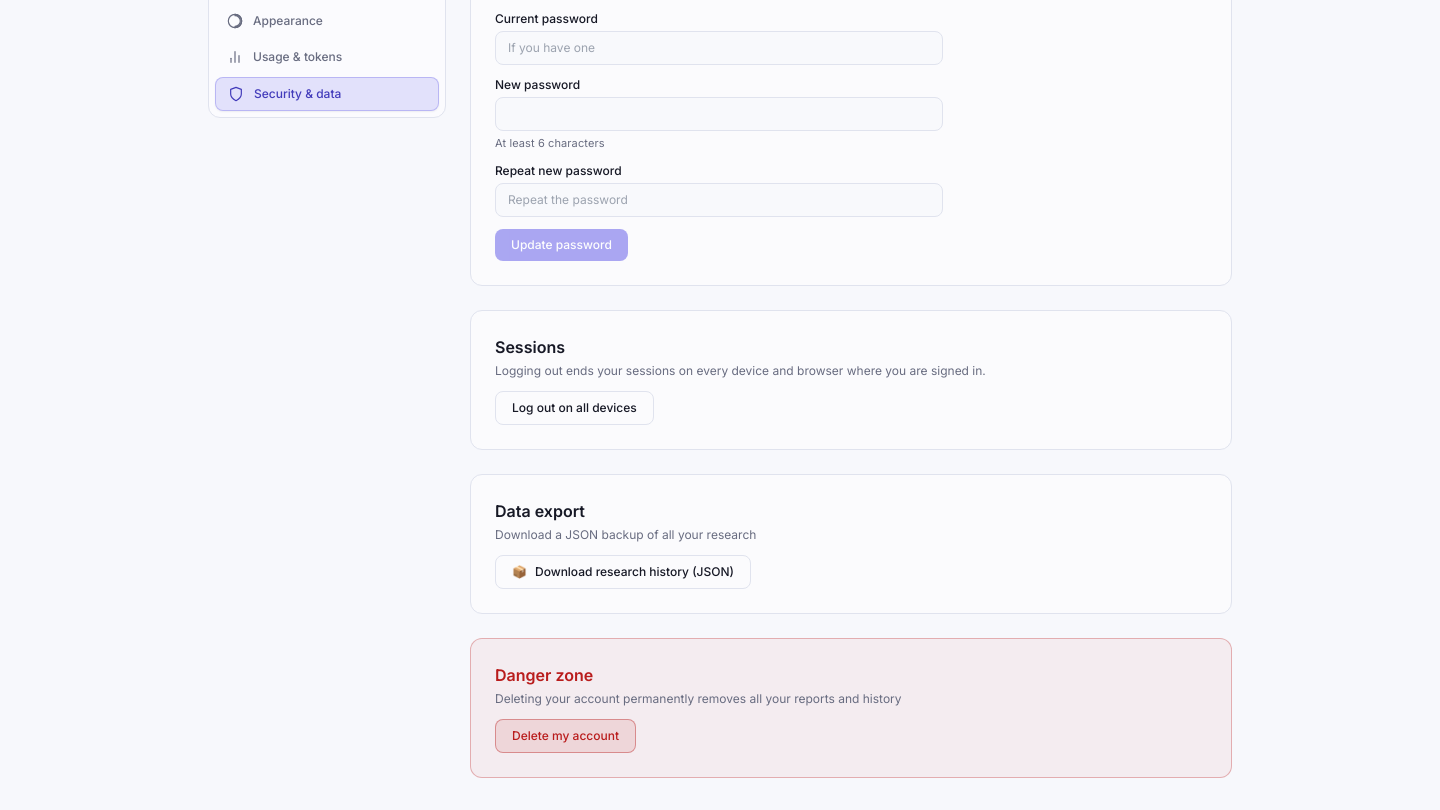
SettingsView › keeps the password and generic errors of a deletion without a Google sign-in offer
The width and height of the screenshot is (1440, 810).
(page scrolled)
Click the button "Delete my account" at (566, 736), box top-left (495, 719), bottom-right (636, 753)
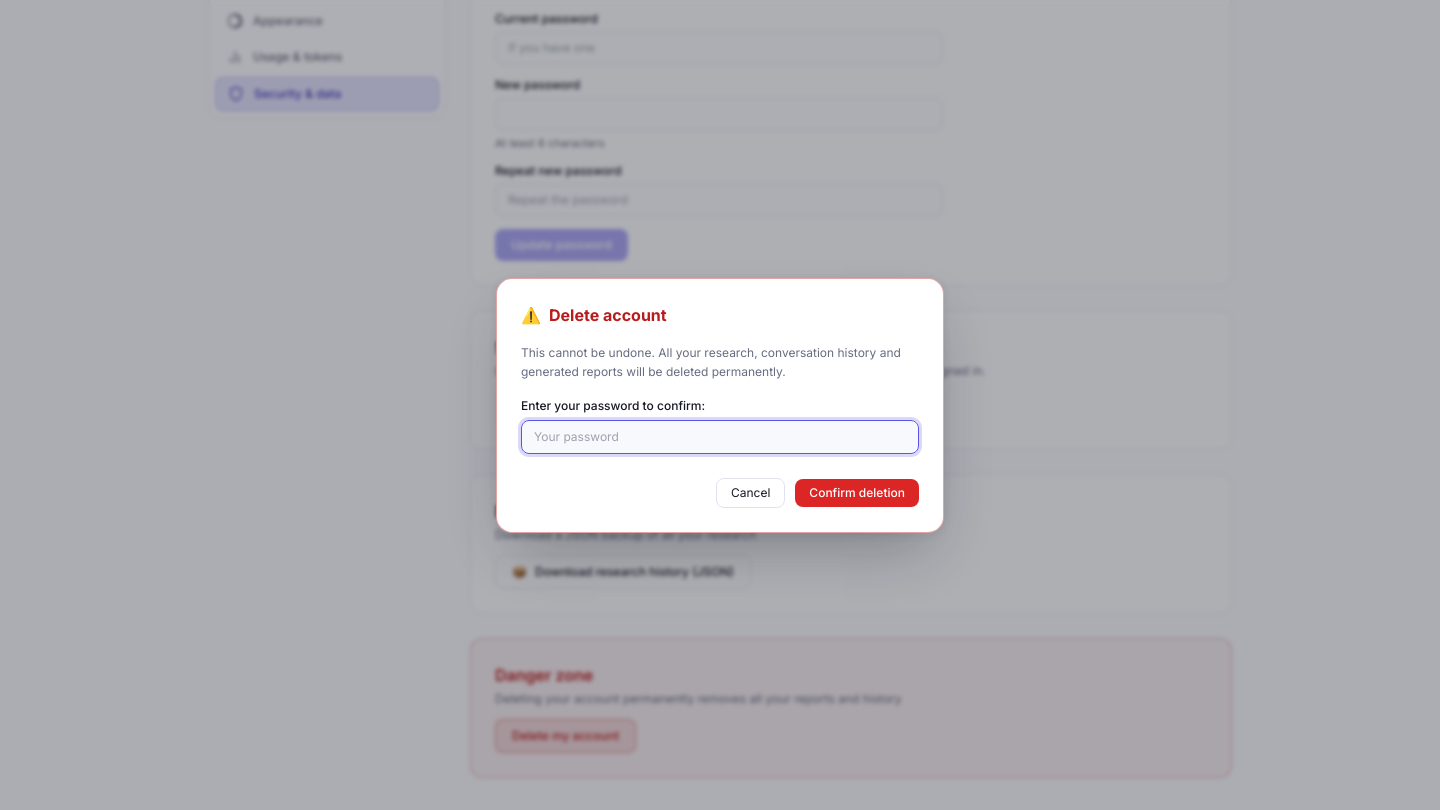
Type "wrong-password" into the password field labelled "Enter your password to confirm:" at (720, 436), box top-left (521, 420), bottom-right (919, 454)
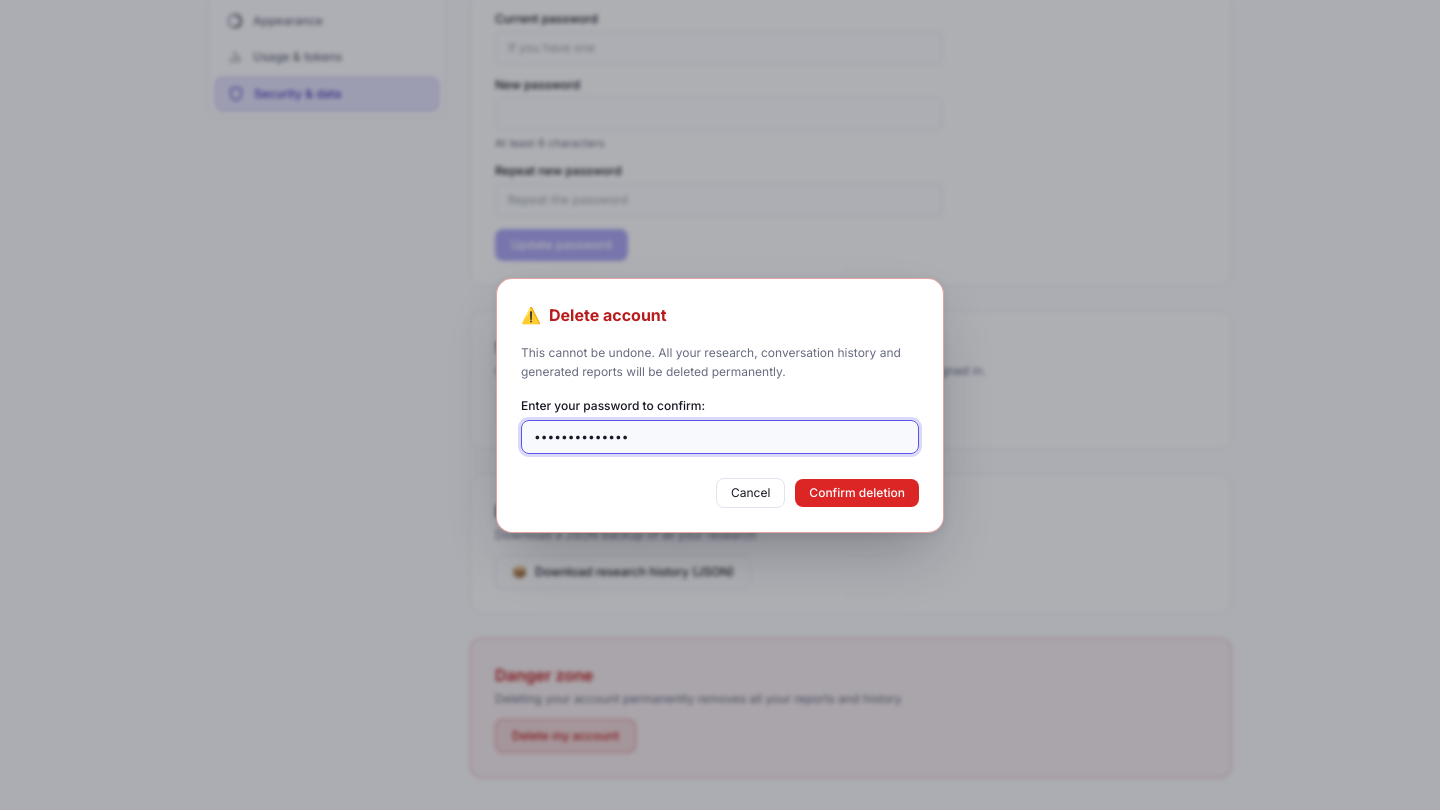
Click the button "Confirm deletion" at (857, 492), box top-left (795, 478), bottom-right (919, 506)
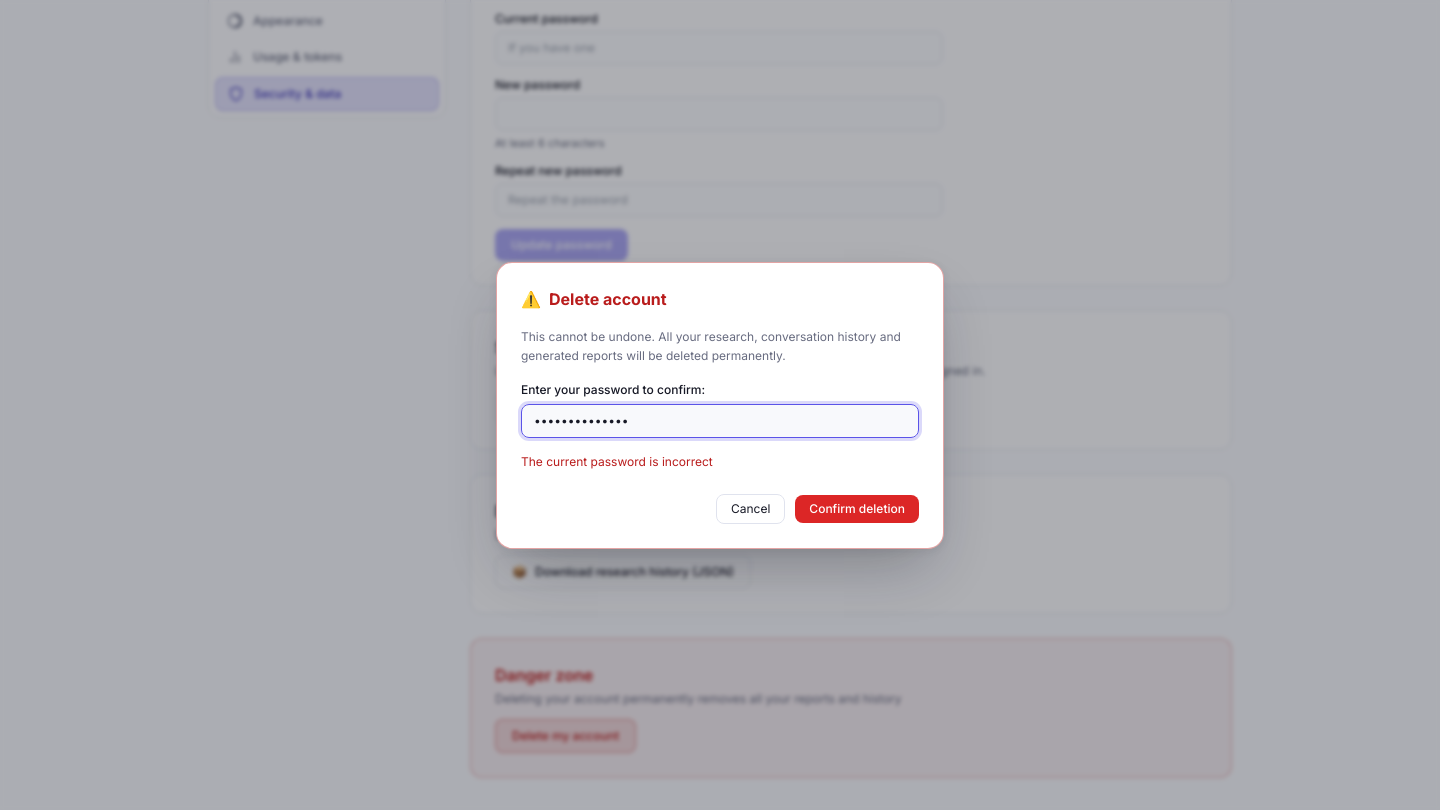
Check: the text "The current password is incorrect" is shown, box top-left (521, 454), bottom-right (713, 468)
Click the button "Confirm deletion" at (857, 508), box top-left (795, 494), bottom-right (919, 522)
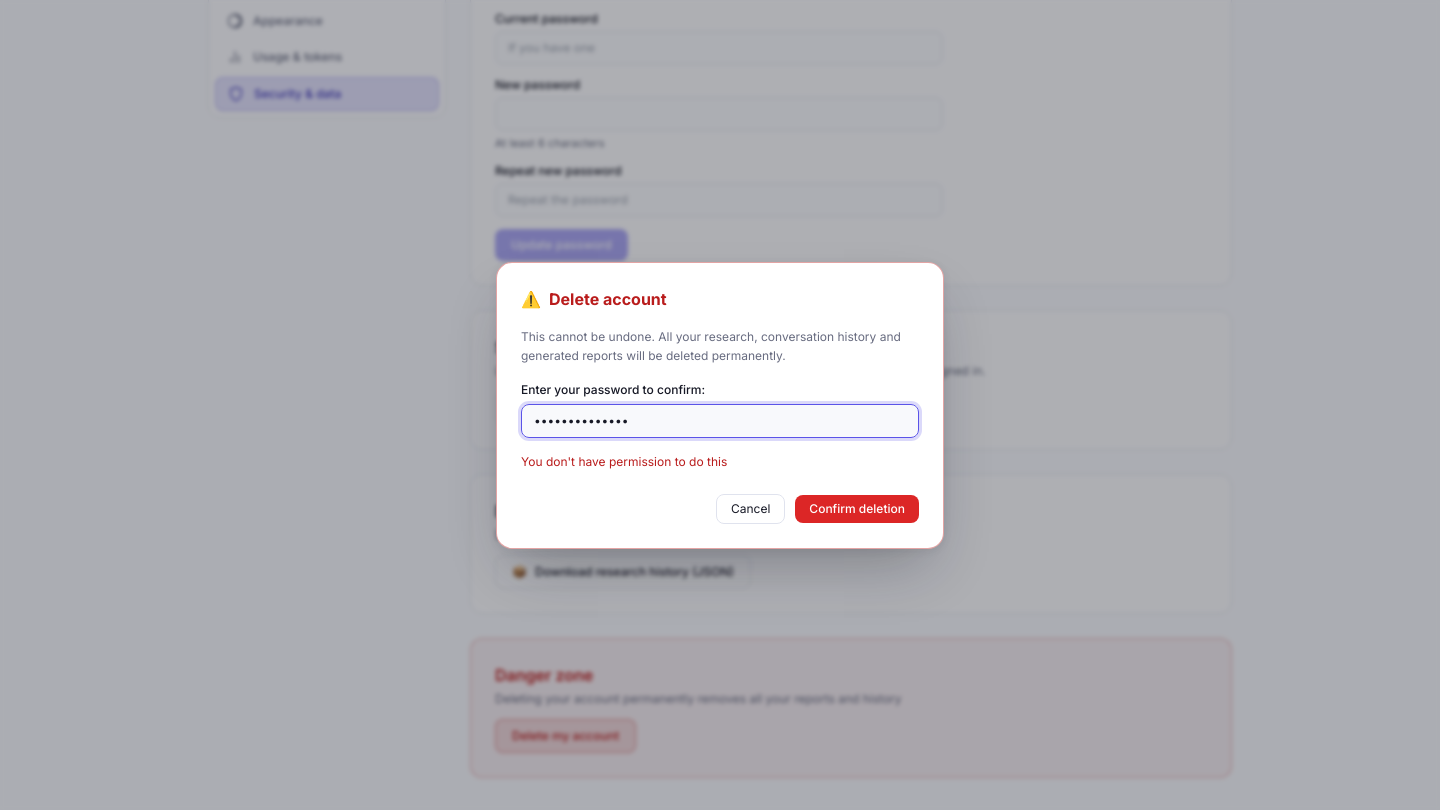
Check: the text "You don't have permission to do this" is shown, box top-left (521, 454), bottom-right (727, 468)
Check: the text "The current password is incorrect" is gone
